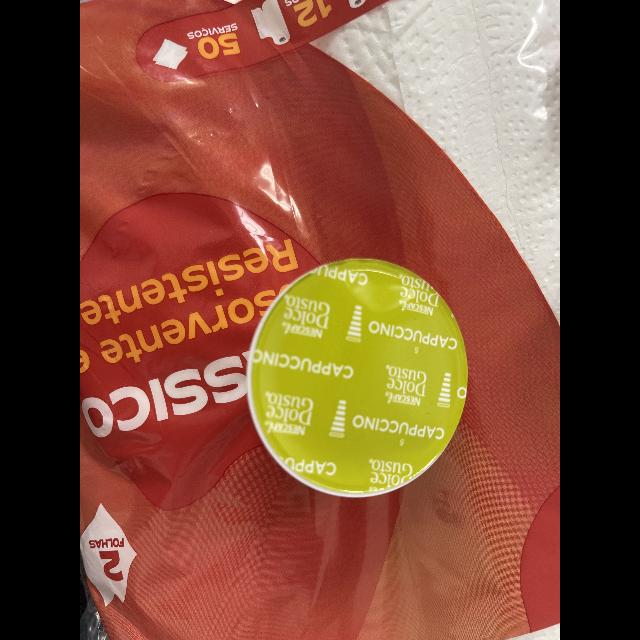intact_capsule: (235, 243, 490, 504)
